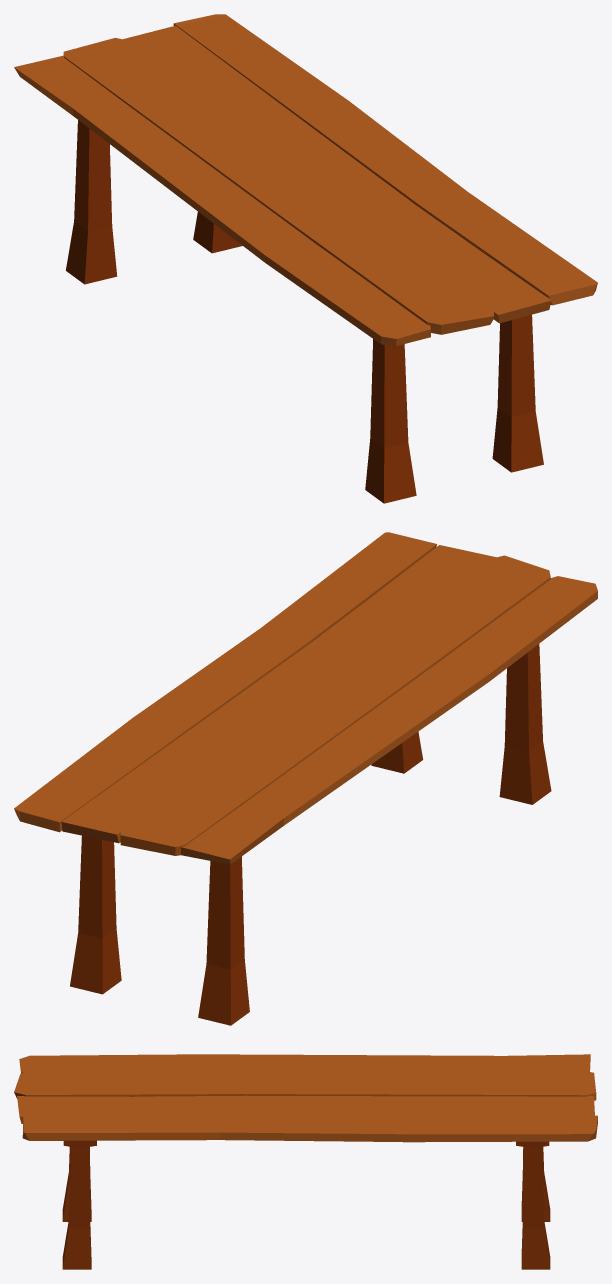
Rendered from Table_1.fbx.
3 views of the same model, one above another, from view 1: azimuth 30°, elevation 25°; view 2: azimuth 150°, elevation 25°; view 3: azimuth 270°, elevation 25° (orthographic). The views are drawn at different scales.
Parts seen in each view (by area): view 1: Table; view 2: Table; view 3: Table.
Part boxes in pixels (left/top/right/bottom): Table: left=14, top=14, right=597, bottom=503; Table: left=14, top=532, right=597, bottom=1025; Table: left=14, top=1054, right=597, bottom=1269.
Size of the model in its own units: 663 by 558 by 2000.
1 material, 1 textured.
